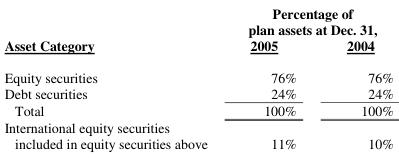table: (3, 3, 392, 152)
table column: (3, 3, 227, 152), (227, 3, 320, 152), (320, 3, 392, 152)
table column header: (3, 3, 392, 61)
table projected row header: (3, 118, 392, 135)
table row: (3, 3, 392, 37), (3, 37, 392, 61), (3, 61, 392, 84), (3, 100, 392, 118), (3, 118, 392, 135), (3, 135, 392, 152), (3, 84, 392, 100)
table spanning cell: (3, 3, 227, 61), (227, 3, 392, 37)
